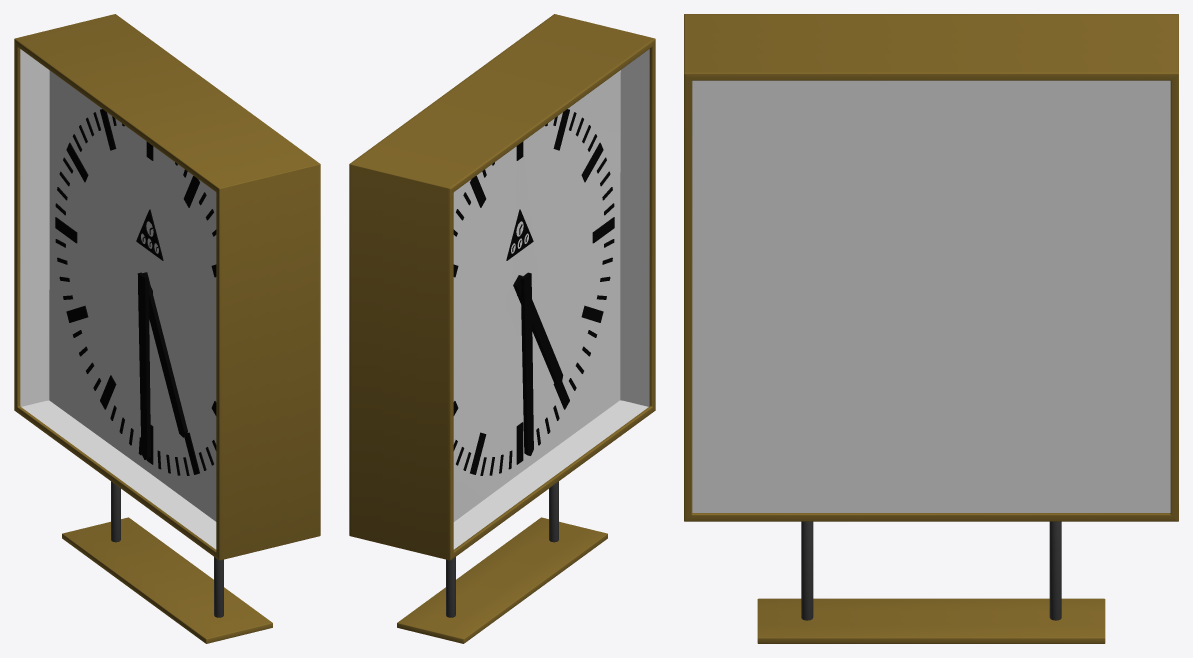
File: Table Clock.fbx
The picture shows the model from 3 angles, left to right: view 1: azimuth 30°, elevation 25°; view 2: azimuth 150°, elevation 25°; view 3: azimuth 270°, elevation 25°; orthographic projection. The views are drawn at different scales.
Visible parts, largest first — view 1: iClock.001, iClockInside.001, iClockMarks.001, iClockBars.001; view 2: iClock.001, iClockInside.001, iClockMarks.001, iClockBars.001; view 3: iClockGlass.001, iClock.001, iClockBars.001.
Boxes of the visible parts, <box> form: iClock.001: <box>14,14,320,643</box>; iClockInside.001: <box>20,49,216,549</box>; iClockMarks.001: <box>55,109,216,475</box>; iClockBars.001: <box>111,481,223,617</box>; iClock.001: <box>349,14,655,643</box>; iClockInside.001: <box>453,49,649,549</box>; iClockMarks.001: <box>453,109,614,475</box>; iClockBars.001: <box>446,481,558,617</box>; iClockGlass.001: <box>692,80,1170,512</box>; iClock.001: <box>684,14,1178,643</box>; iClockBars.001: <box>801,521,1061,620</box>.
Size of the model in its own units: 9 by 40.78 by 31.48.
